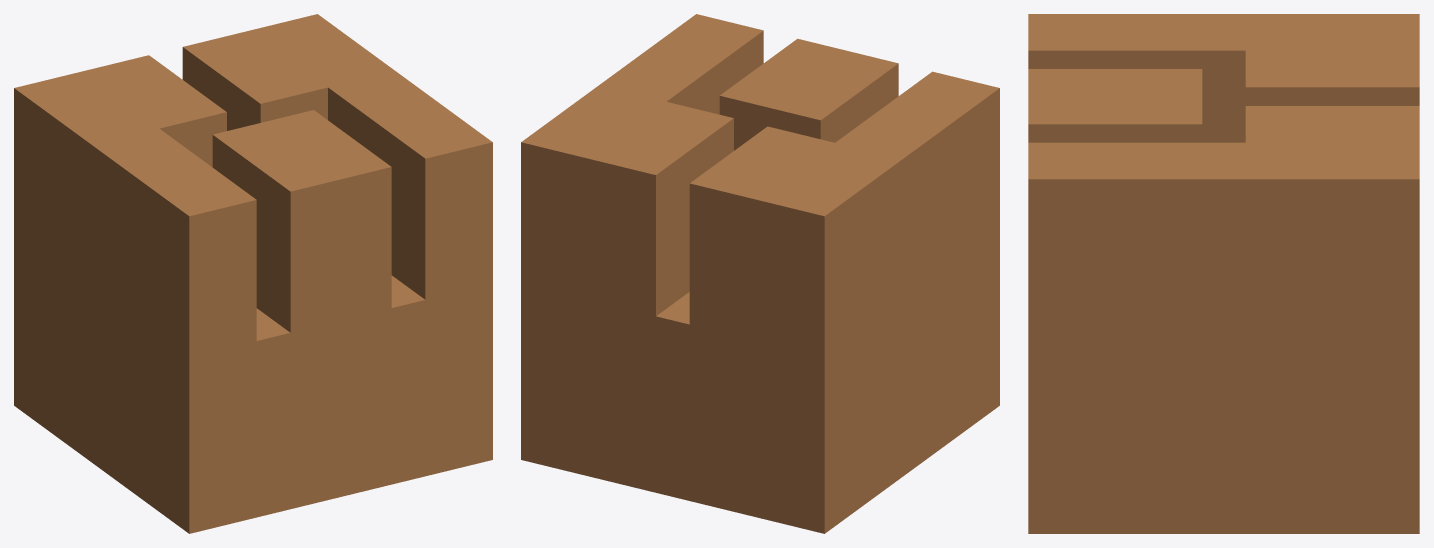
The model's file is Thin_Connect_2S_to_M_Model.fbx.
3 views of the same model, side by side, from view 1: azimuth 30°, elevation 25°; view 2: azimuth 150°, elevation 25°; view 3: azimuth 270°, elevation 25° (orthographic). The views are drawn at different scales.
Parts seen in each view (by area): view 1: Cube; view 2: Cube; view 3: Cube.
Part boxes in pixels (left/top/right/bottom): Cube: left=14, top=14, right=492, bottom=533; Cube: left=521, top=14, right=999, bottom=533; Cube: left=1028, top=14, right=1419, bottom=533.
Bounding box in the file's own units: 100 × 100 × 100.
